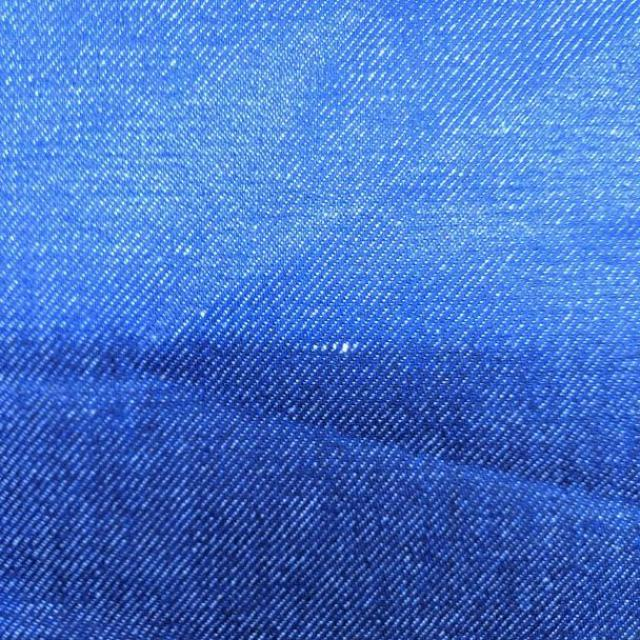Knot: (303, 341, 359, 356)
